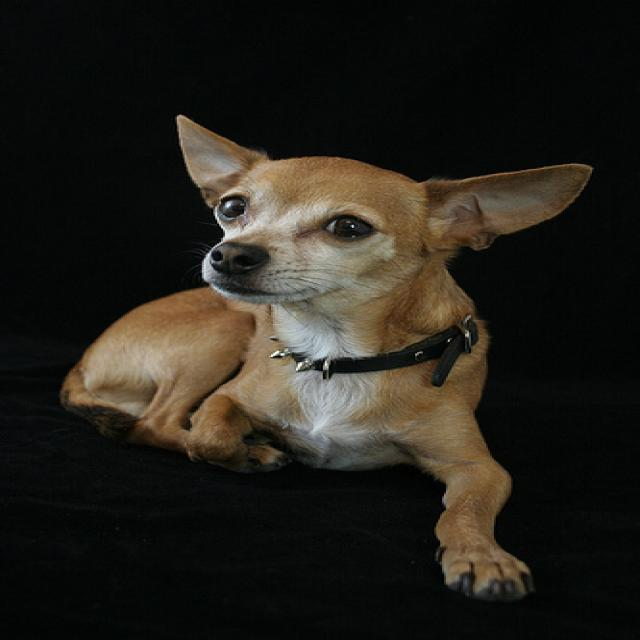dog-chihuahua: (50, 102, 603, 614)
